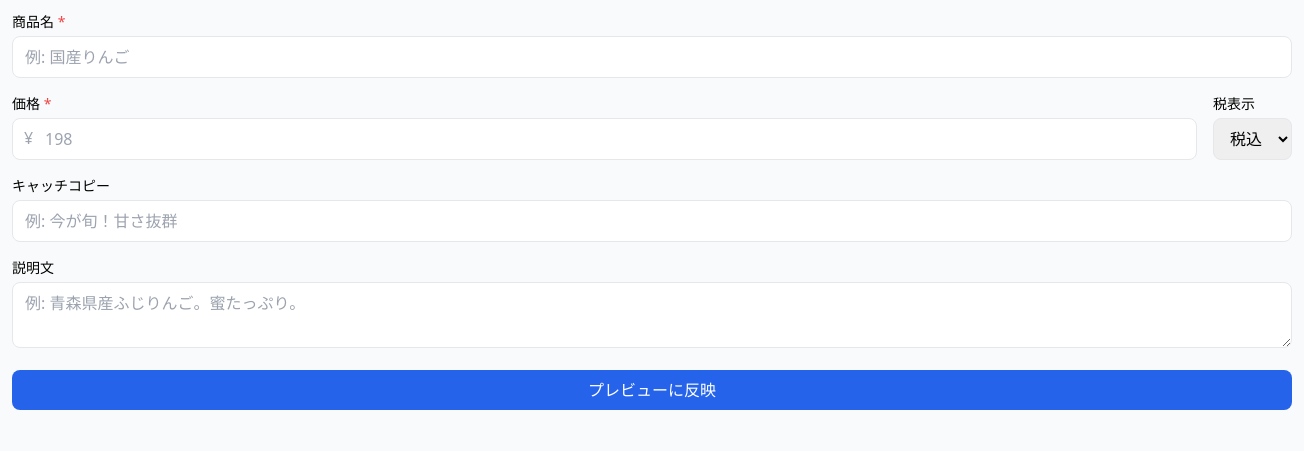
Test: ProductForm › shows validation error for empty product name on submit
The width and height of the screenshot is (1304, 451).
Step 1. Click the button "プレビューに反映" → (652, 390), box [12, 370, 1292, 410]
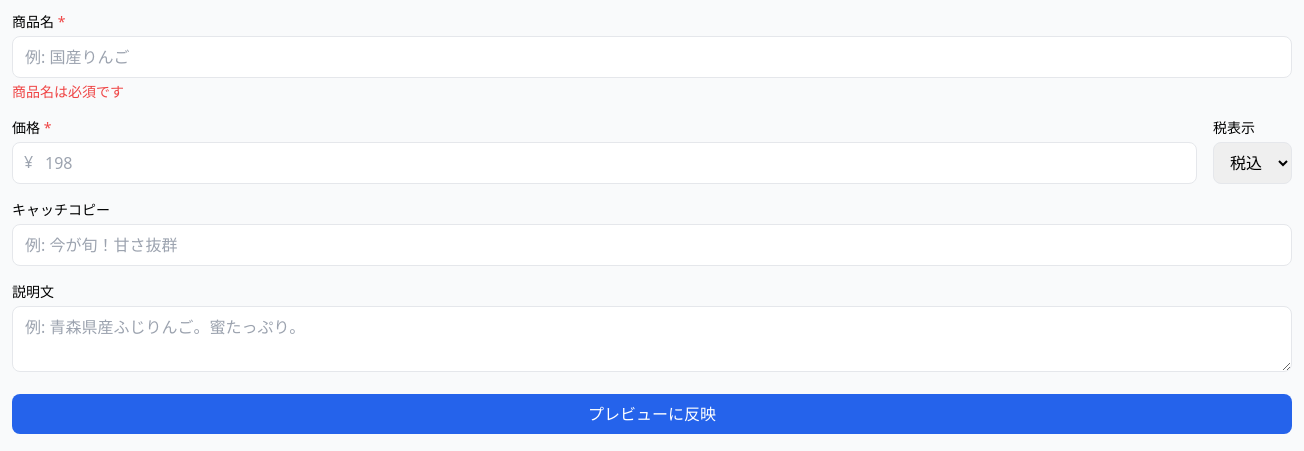
Expected: the text "商品名は必須です" is shown, [12, 82, 124, 101]
